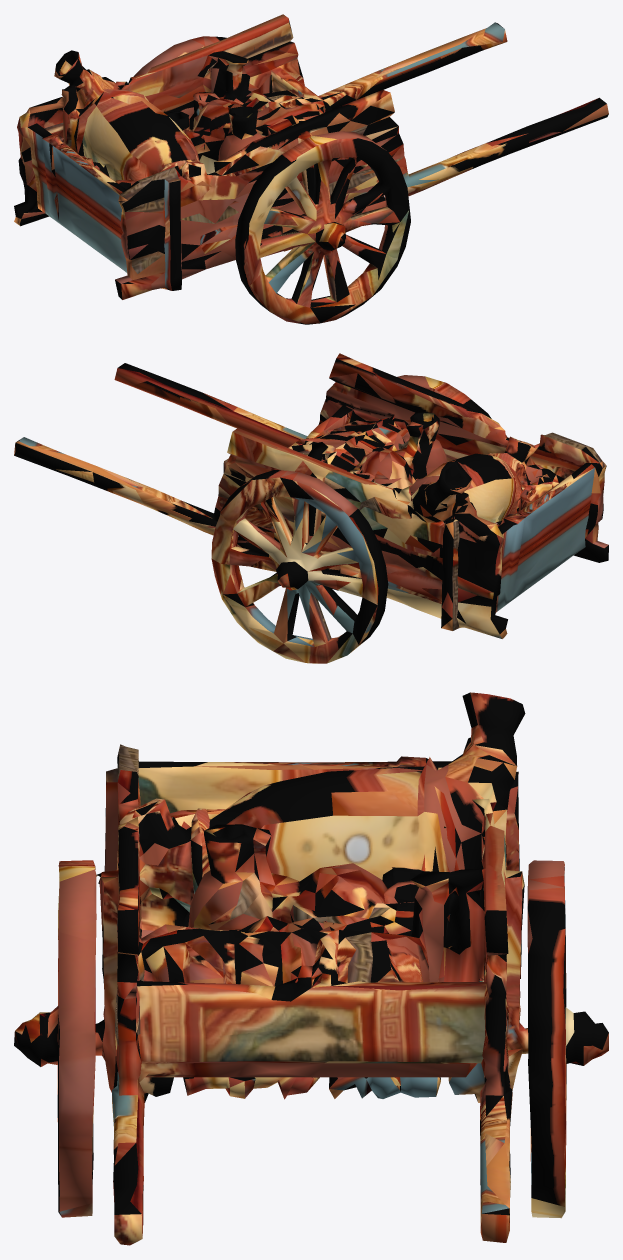
File: MDL_Environment_Other_Cart1_Cart1.fbx
The picture shows the model from 3 angles, top to bottom: view 1: azimuth 30°, elevation 25°; view 2: azimuth 150°, elevation 25°; view 3: azimuth 270°, elevation 25°; orthographic projection. The views are drawn at different scales.
Parts seen in each view (by area): view 1: Mesh1.0; view 2: Mesh1.0; view 3: Mesh1.0.
Part boxes in pixels (bbox=[...]): Mesh1.0: bbox=[14, 14, 608, 324]; Mesh1.0: bbox=[14, 353, 608, 663]; Mesh1.0: bbox=[14, 692, 608, 1245].
Bounding box in the file's own units: 192 × 80.73 × 111.
